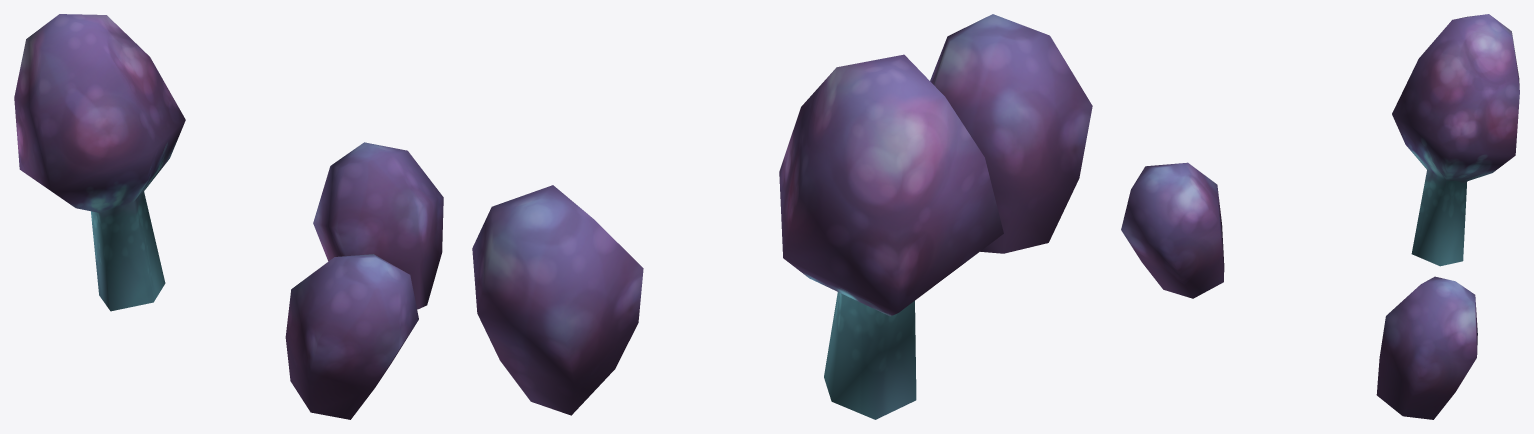
Rendered from mushroom_1.FBX.
3 renders of one model, left to right at view 1: azimuth 30°, elevation 25°; view 2: azimuth 150°, elevation 25°; view 3: azimuth 270°, elevation 25°, orthographic. The views are drawn at different scales.
Parts seen in each view (by area): view 1: mushroom_1; view 2: mushroom_1; view 3: mushroom_1.
Part boxes in pixels (left/top/right/bottom): mushroom_1: left=14, top=14, right=443, bottom=419; mushroom_1: left=472, top=14, right=1092, bottom=419; mushroom_1: left=1121, top=14, right=1519, bottom=419.
Bounding box in the file's own units: 18.52 × 15.44 × 19.49.
Materials: 1 (1 with a texture image).
